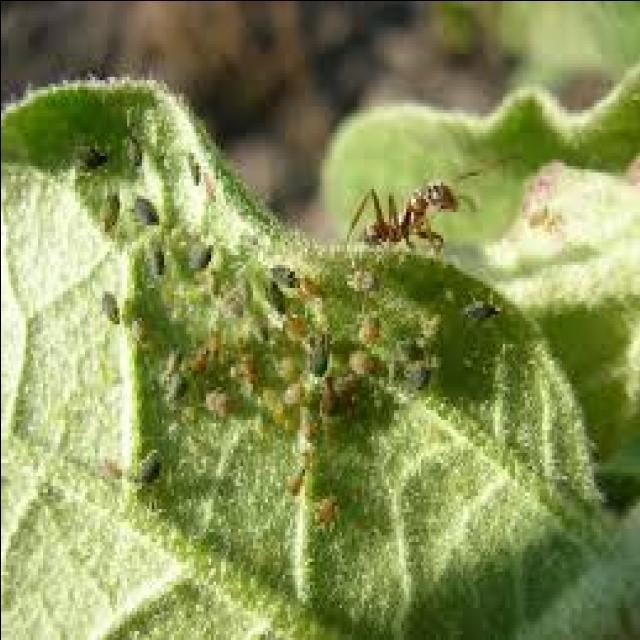aphid: (458, 284, 502, 330), (128, 185, 166, 231), (312, 482, 346, 532), (94, 185, 126, 238), (392, 326, 432, 366), (96, 280, 128, 330), (306, 323, 336, 376), (341, 258, 385, 294), (186, 228, 220, 274), (280, 363, 314, 409), (121, 122, 151, 172), (134, 442, 168, 485), (346, 336, 380, 379), (161, 363, 195, 406), (267, 254, 301, 294), (356, 304, 386, 346), (140, 238, 170, 280), (408, 356, 438, 396), (319, 366, 343, 416), (193, 336, 215, 376)
